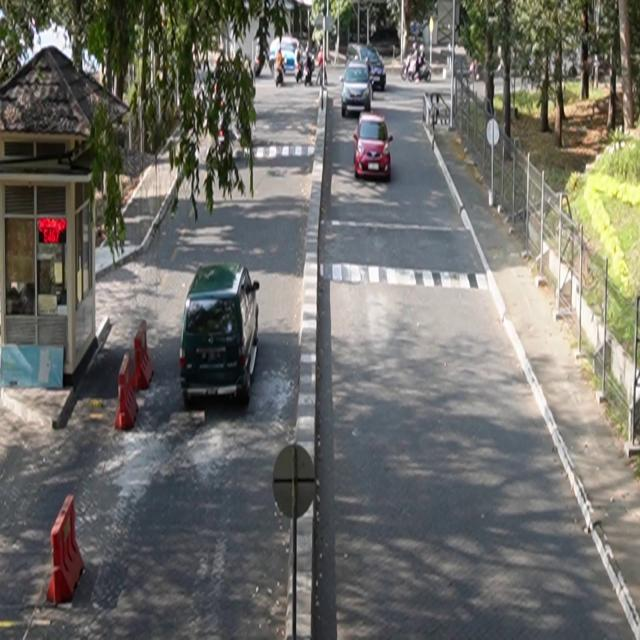car: (180, 262, 261, 407), (354, 112, 394, 182)
